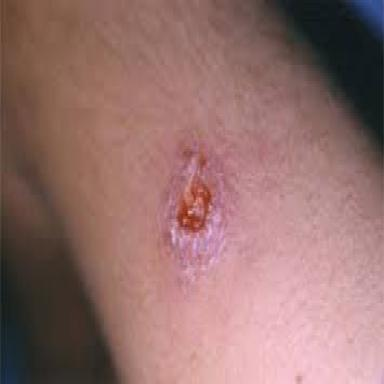Leishmanios: (160, 135, 226, 278)
